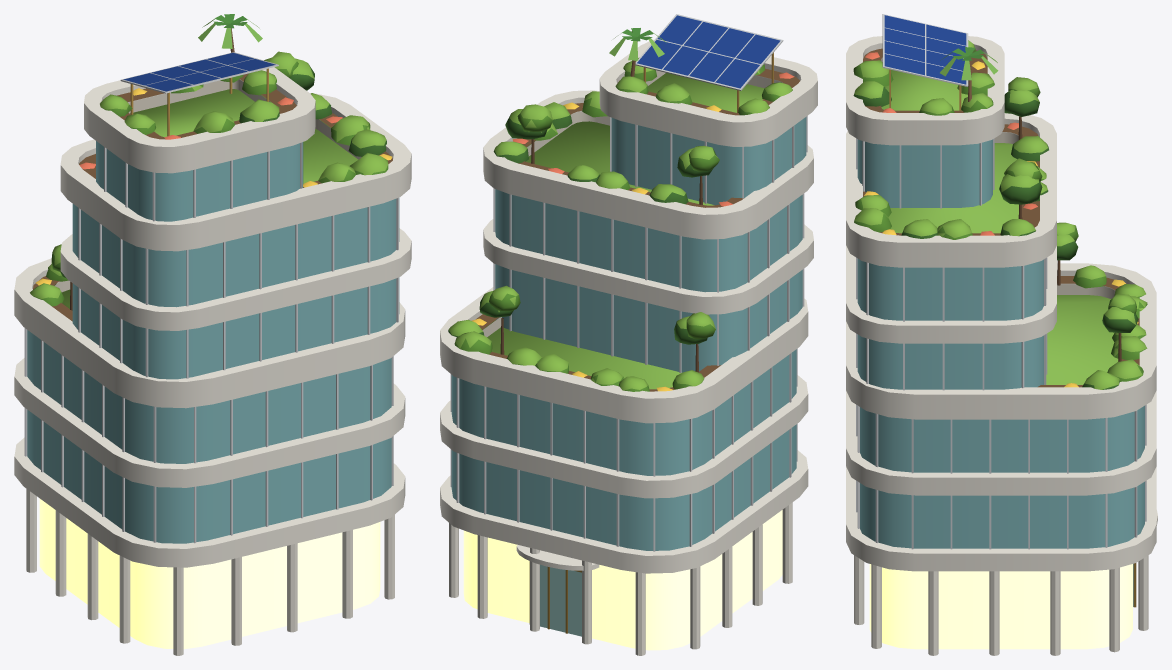
The model's file is tower_b.glb.
3 views of the same model, side by side, from view 1: azimuth 30°, elevation 25°; view 2: azimuth 150°, elevation 25°; view 3: azimuth 270°, elevation 25° (orthographic). The views are drawn at different scales.
Parts seen in each view (by area): view 1: tower, garden; view 2: tower, garden; view 3: tower, garden.
Boxes of the visible parts, x1=… form: tower: x1=14, y1=52, x2=411, y2=655; garden: x1=30, y1=14, x2=392, y2=310; tower: x1=440, y1=14, x2=817, y2=655; garden: x1=448, y1=28, x2=794, y2=391; tower: x1=846, y1=14, x2=1157, y2=655; garden: x1=853, y1=40, x2=1147, y2=389.
Bounding box in the file's own units: 11.86 × 22.8 × 11.91.
